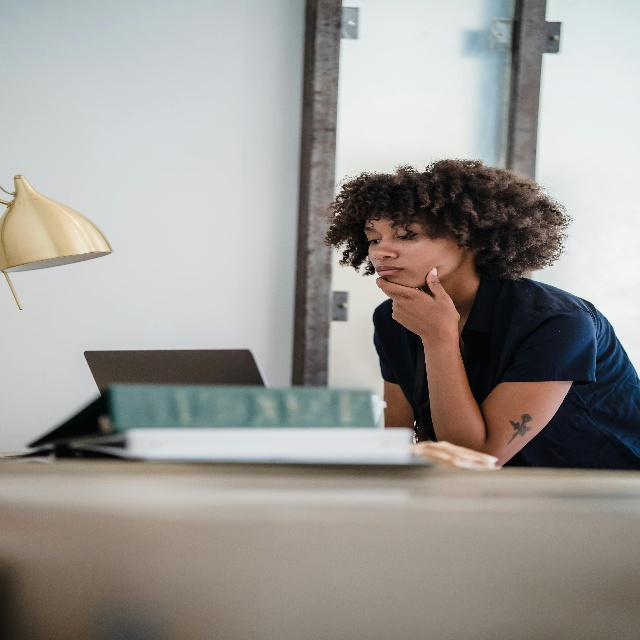Sin_guantes: (371, 266, 462, 345)
